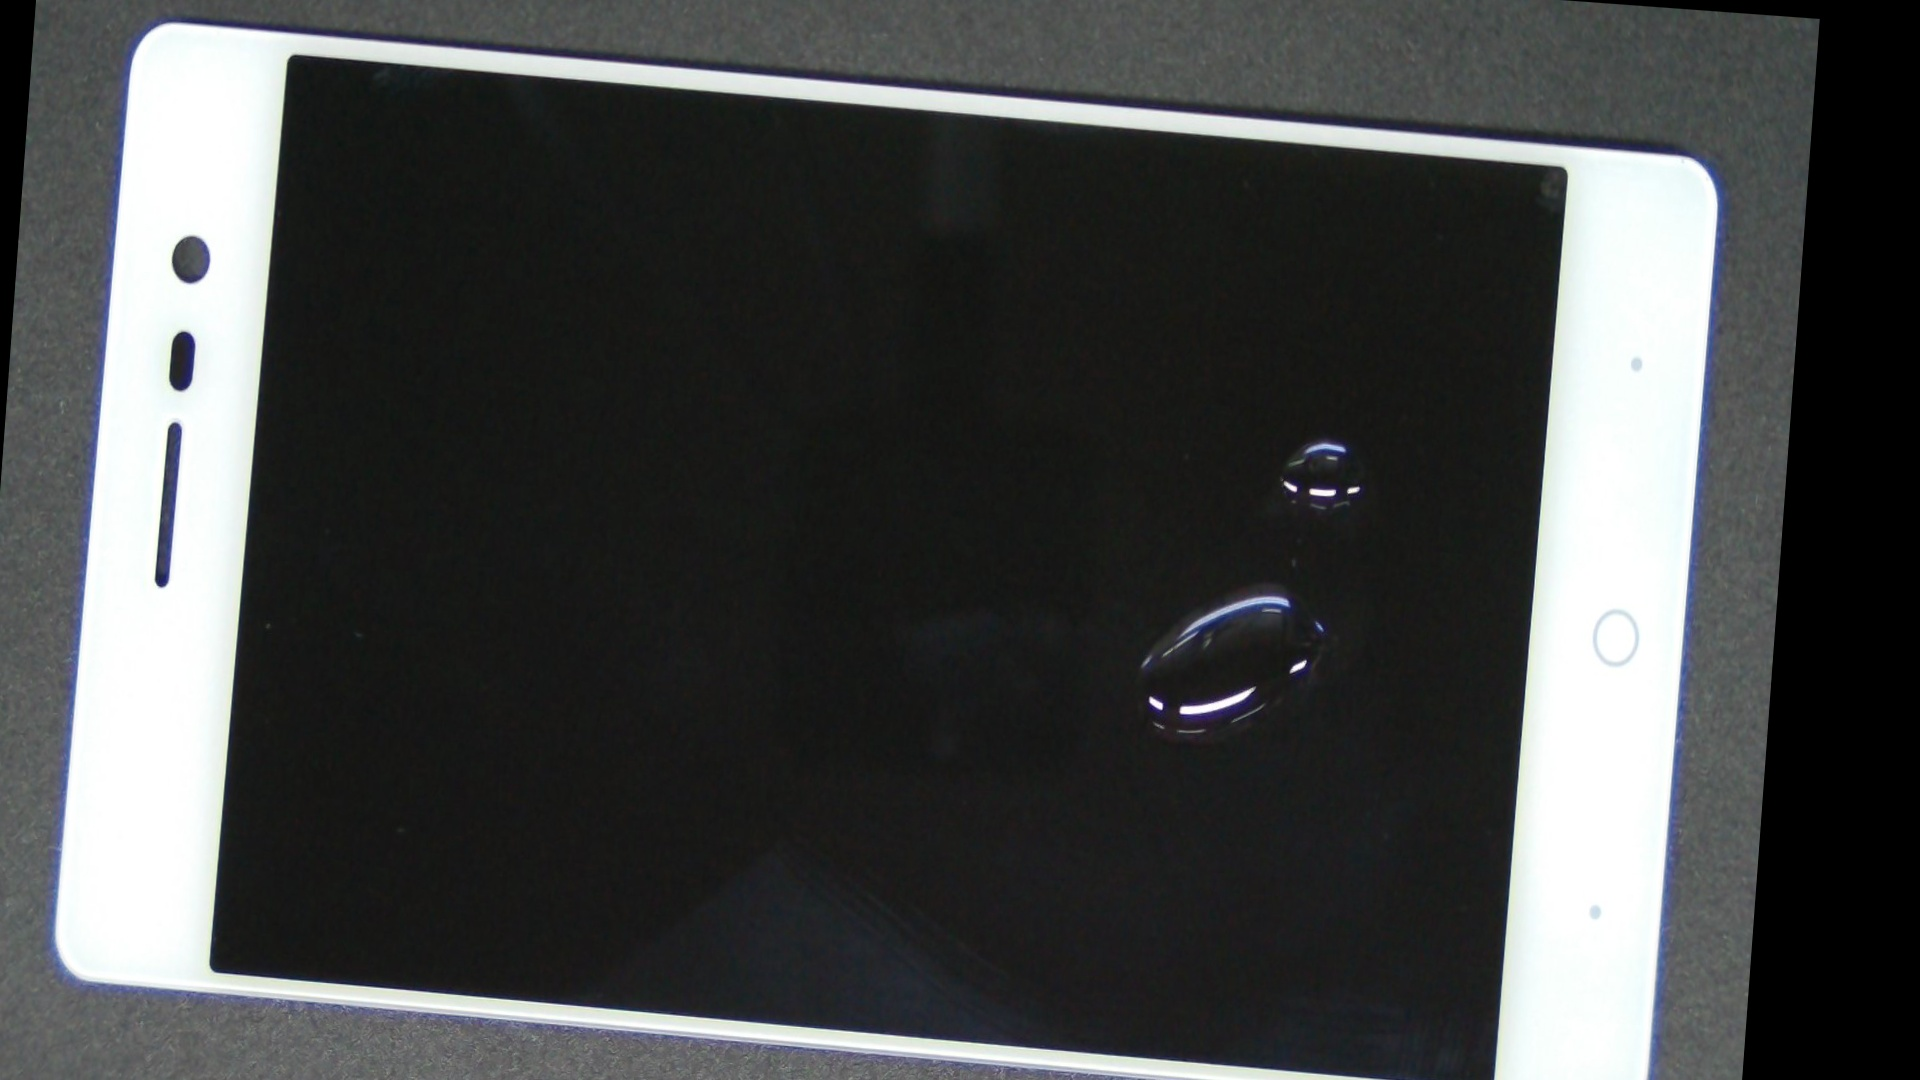oil: (609, 235, 1797, 919), (651, 164, 1803, 700)
